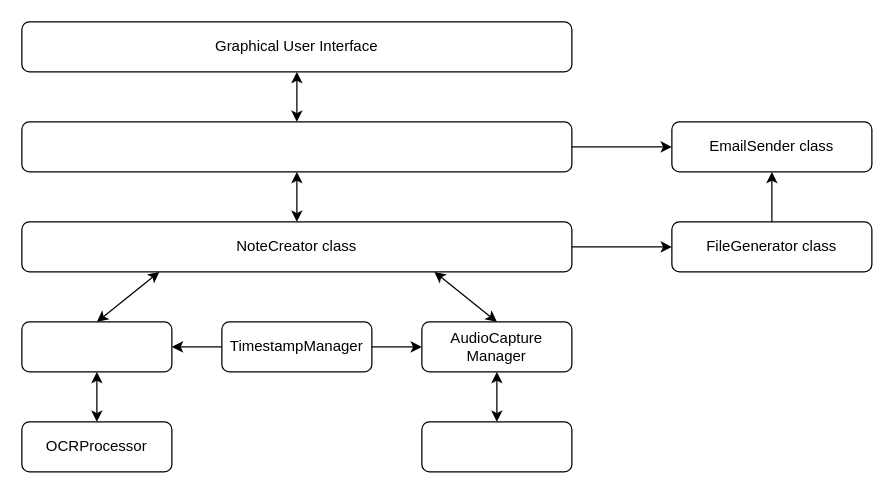
Some shapes in this 894 by 494 pixel diagram are drawn without their labels. Here are the shapes that lost their labels. From the top down, the centre of each, then its label:
At [296,146]: "GUIManager class".
At [96,346]: "ScreenshotCapture Manager".
At [496,446]: "SpeechToText".
